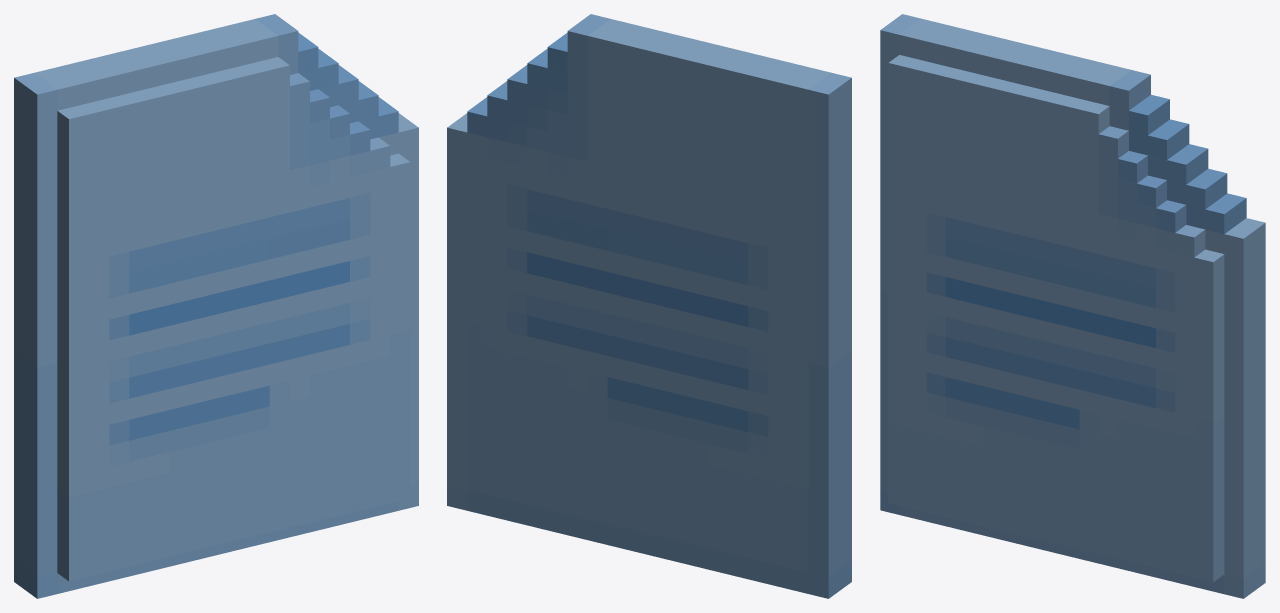
Rendered from page-blue.glb.
3 renders of one model, left to right at view 1: azimuth 30°, elevation 25°; view 2: azimuth 150°, elevation 25°; view 3: azimuth 330°, elevation 25°, orthographic. The views are drawn at different scales.
Visible parts, largest first — view 1: prop; view 2: prop; view 3: prop.
Part boxes in pixels (x1,y1,x2,y2): prop: (14,14,418,598); prop: (447,14,851,598); prop: (880,14,1265,598).
Size of the model in its own units: 12.67 by 16 by 2.
